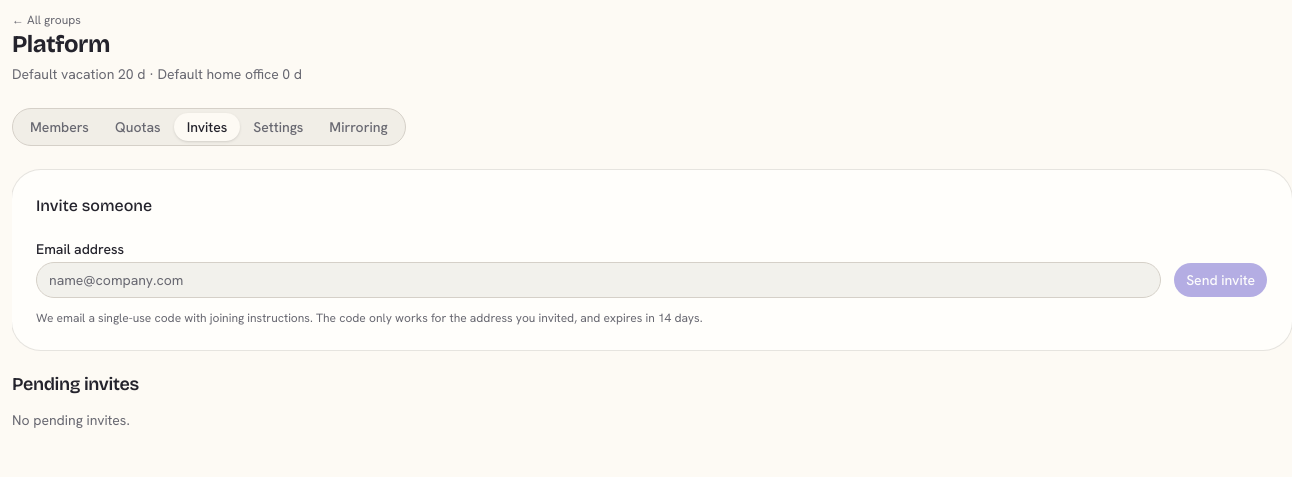
GroupDetailPage invites tab › sends an invite for the entered email
This screenshot has width=1292, height=477.
In the field labelled "Email address": (599, 280) x1=36 y1=262 x2=1161 y2=298, type "sam@northwind.co"
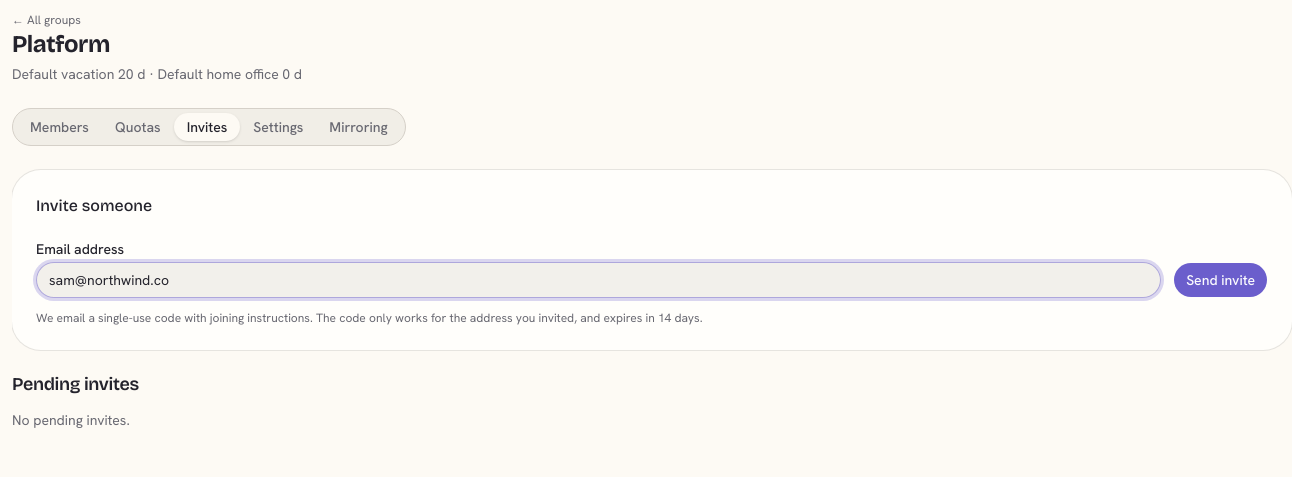
Click the button "Send invite": (1221, 280) x1=1173 y1=262 x2=1268 y2=298
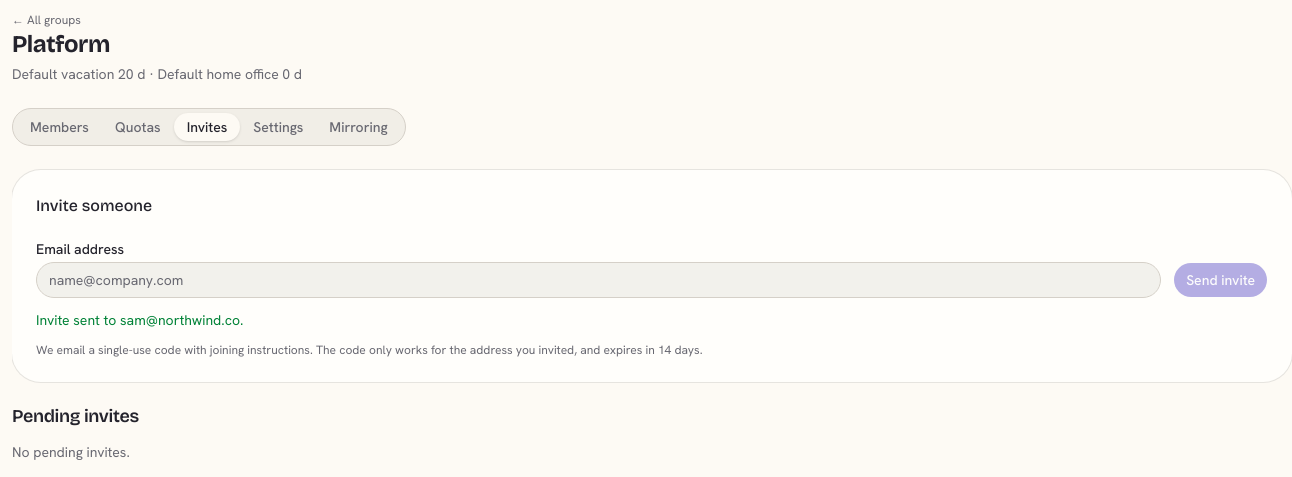
Expected: the text "Invite sent to sam@northwind.co." is shown, x1=36 y1=311 x2=243 y2=329
